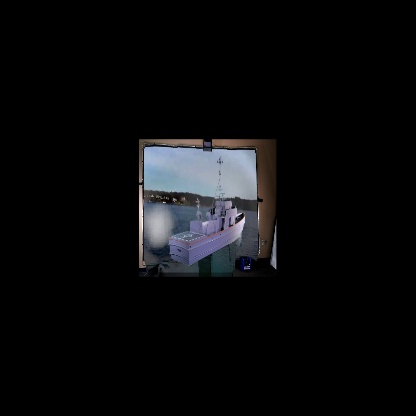YP689: (168, 155, 246, 266)
